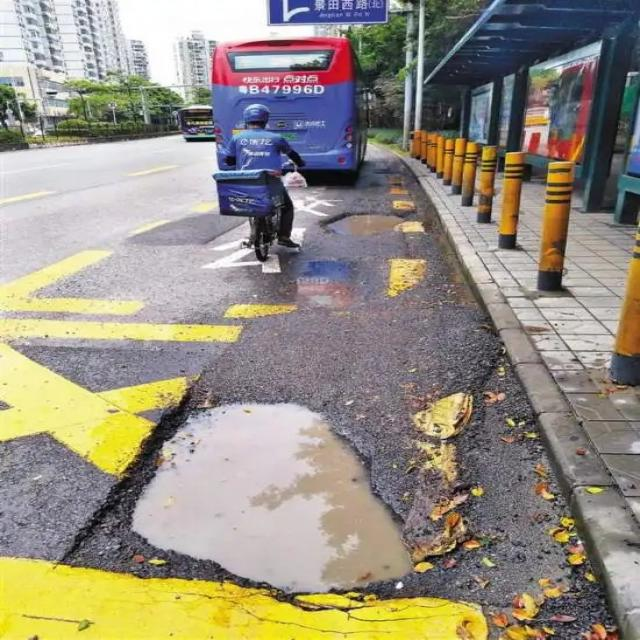Pothole: (130, 400, 430, 599), (321, 205, 411, 235)
